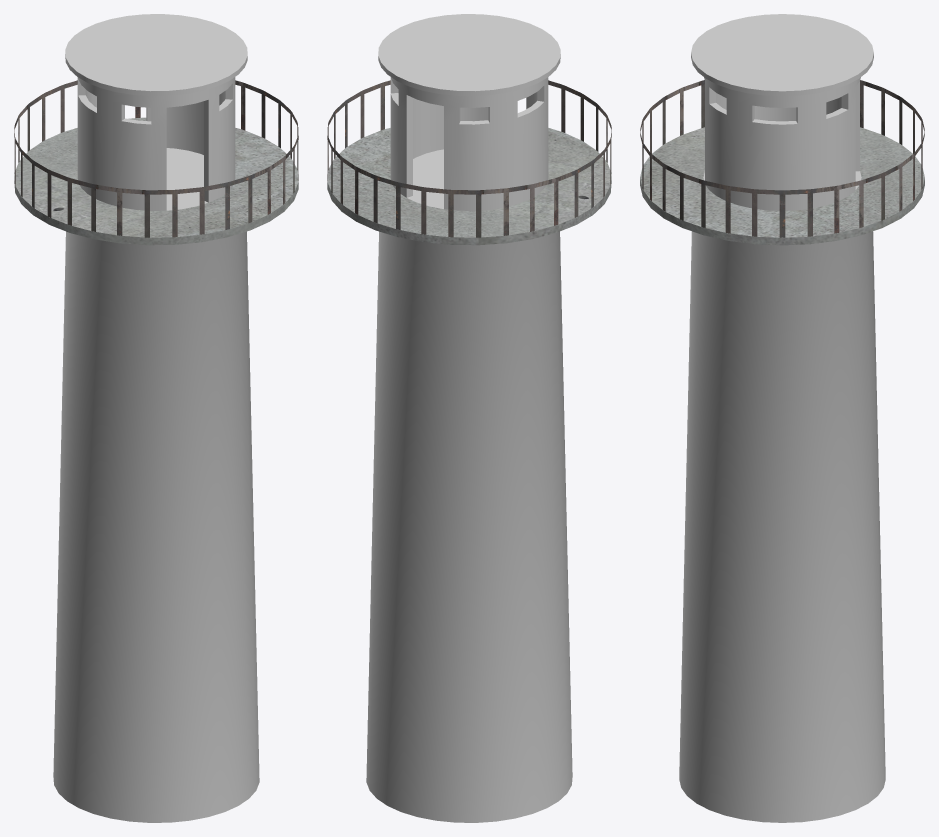
The model's file is tower_old.fbx.
The picture shows the model from 3 angles, left to right: view 1: azimuth 30°, elevation 25°; view 2: azimuth 150°, elevation 25°; view 3: azimuth 270°, elevation 25°; orthographic projection.
Parts seen in each view (by area): view 1: Tower; view 2: Tower; view 3: Tower.
Part boxes in pixels (x1=…): Tower: x1=14, y1=14, x2=298, y2=822; Tower: x1=327, y1=14, x2=611, y2=822; Tower: x1=640, y1=14, x2=924, y2=822.
Size of the model in its own units: 534 by 1502 by 534.
